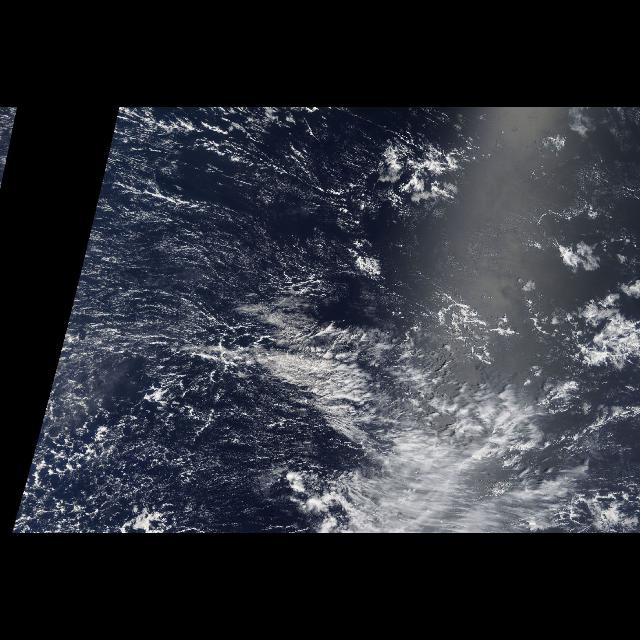Fish: (132, 300, 516, 444)
Gravel: (12, 371, 212, 533)
Sugar: (70, 160, 298, 344)
